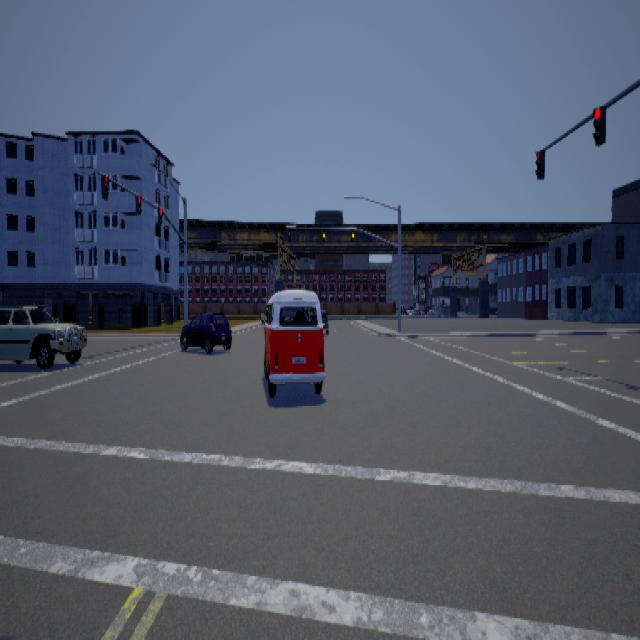red_light: (591, 104, 605, 145), (534, 148, 544, 179), (100, 173, 108, 199), (134, 194, 141, 214), (156, 205, 162, 224)
vehicle: (259, 288, 328, 396), (0, 301, 86, 369), (179, 310, 231, 352)
yellow_light: (287, 226, 290, 241), (322, 228, 325, 242), (352, 228, 354, 242)
